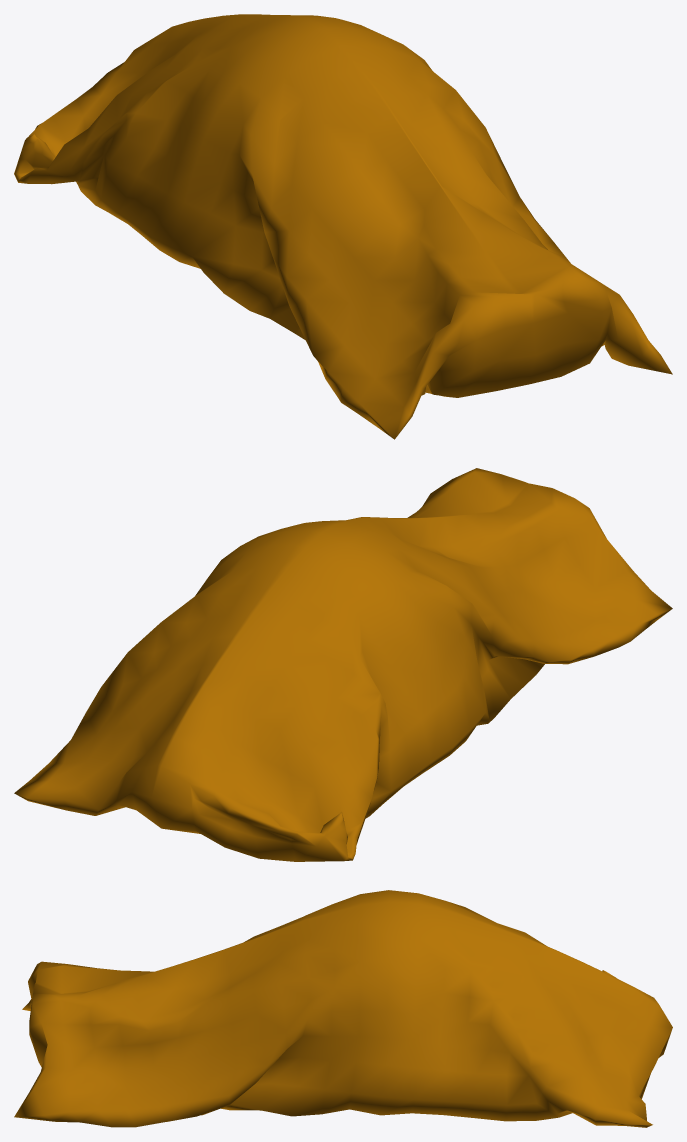
The model's file is SM_POS_Man_Bodybag_1.FBX.
The picture shows the model from 3 angles, top to bottom: view 1: azimuth 30°, elevation 25°; view 2: azimuth 150°, elevation 25°; view 3: azimuth 270°, elevation 25°; orthographic projection. The views are drawn at different scales.
Parts seen in each view (by area): view 1: POS_Man_Bodybag_1; view 2: POS_Man_Bodybag_1; view 3: POS_Man_Bodybag_1.
Boxes of the visible parts, x1,y1,x2,y2 form: POS_Man_Bodybag_1: [14, 14, 672, 439]; POS_Man_Bodybag_1: [14, 468, 672, 861]; POS_Man_Bodybag_1: [14, 890, 672, 1127].
Bounding box in the file's own units: 105 × 222 × 63.79.
